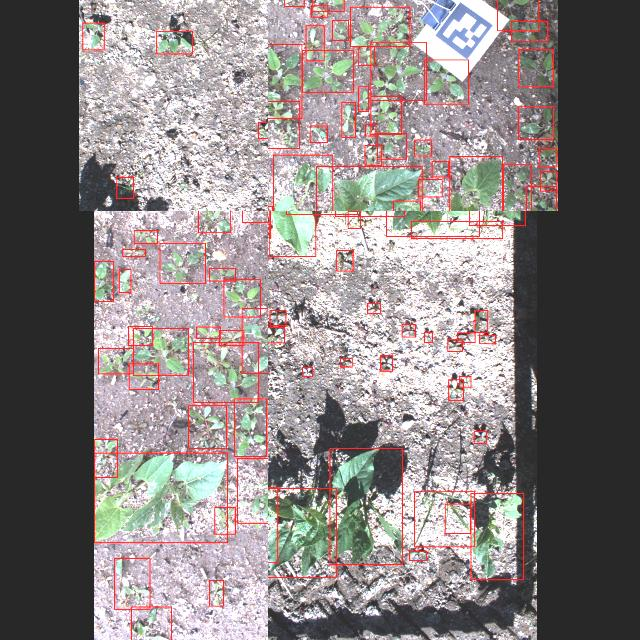crop: (94, 452, 226, 542), (328, 448, 402, 564), (268, 487, 336, 576), (316, 165, 422, 211), (471, 493, 524, 579), (272, 154, 332, 211), (449, 155, 502, 211), (385, 211, 478, 236), (268, 211, 315, 256)
weed: (192, 342, 258, 402), (370, 41, 426, 99), (414, 492, 474, 546), (132, 328, 188, 374), (268, 43, 301, 117), (350, 6, 410, 46), (302, 49, 352, 91), (237, 457, 268, 522), (424, 59, 468, 103), (234, 398, 266, 456), (160, 242, 204, 282), (241, 307, 268, 372), (114, 558, 148, 608), (188, 404, 226, 448), (411, 220, 503, 238), (268, 100, 298, 147), (502, 163, 531, 211), (518, 48, 554, 86), (222, 280, 260, 316), (130, 606, 170, 640), (496, 0, 537, 30), (518, 105, 554, 138), (371, 96, 402, 134), (94, 439, 116, 477), (156, 31, 192, 54), (98, 348, 132, 372), (376, 132, 406, 158), (526, 185, 556, 211), (444, 503, 470, 533), (511, 21, 547, 41), (128, 364, 158, 388), (94, 261, 112, 301), (197, 211, 230, 231), (305, 26, 323, 60), (81, 22, 102, 50), (214, 506, 234, 534), (341, 102, 355, 136), (418, 178, 442, 196), (128, 326, 152, 344), (208, 579, 224, 605), (218, 330, 244, 344), (364, 144, 382, 164), (116, 176, 132, 198), (312, 0, 343, 11), (539, 148, 557, 166), (331, 20, 347, 40), (540, 171, 556, 191), (448, 379, 464, 399), (336, 250, 352, 270), (209, 268, 235, 280), (474, 310, 488, 332), (392, 200, 419, 211), (358, 46, 374, 64), (414, 139, 432, 155), (196, 326, 220, 338), (133, 230, 157, 242), (118, 268, 130, 292), (310, 125, 326, 142), (432, 160, 448, 176), (358, 86, 368, 110), (268, 326, 283, 342), (269, 310, 285, 324), (347, 211, 359, 227), (310, 6, 328, 16), (408, 550, 426, 560), (457, 332, 475, 342), (122, 248, 144, 256), (448, 339, 462, 351), (401, 324, 415, 336), (380, 356, 392, 370), (258, 122, 268, 138), (479, 334, 495, 344), (474, 430, 486, 442), (366, 302, 379, 312), (365, 123, 375, 135), (284, 0, 304, 6), (340, 358, 352, 367), (460, 376, 470, 386), (302, 366, 312, 376), (424, 332, 432, 342)
